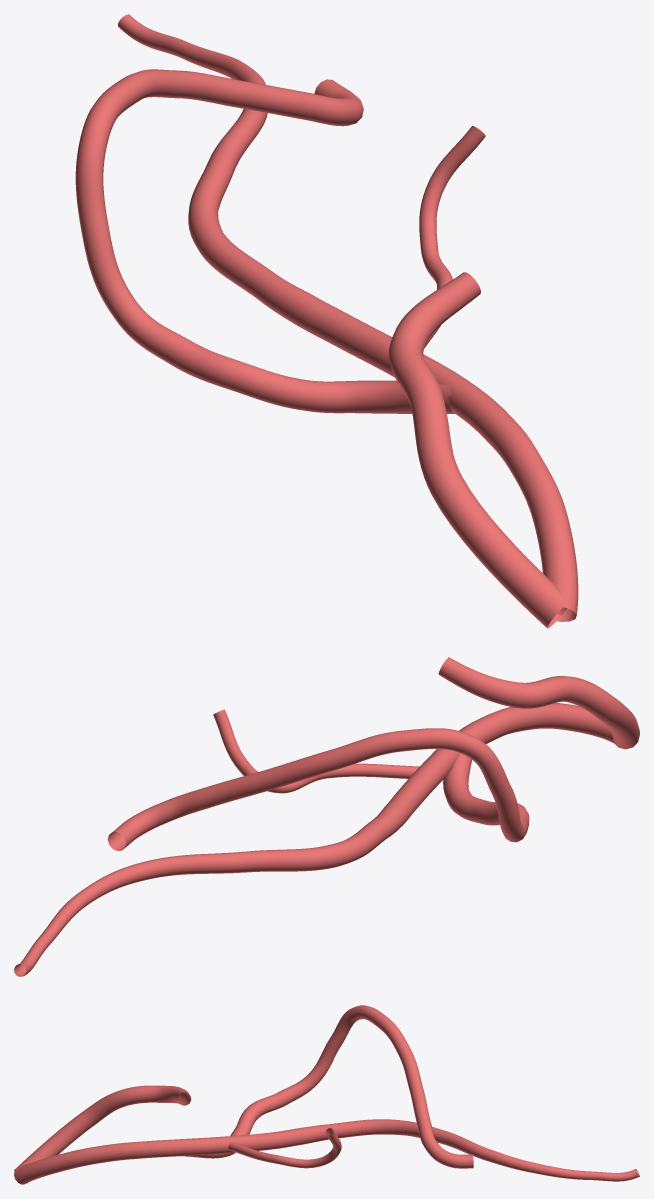
File: Middle_cerebral_artery_(M3_segment).l_BezierCurve.223.glb
3 views of the same model, one above another, from view 1: azimuth 30°, elevation 25°; view 2: azimuth 150°, elevation 25°; view 3: azimuth 270°, elevation 25° (orthographic). The views are drawn at different scales.
Visible parts, largest first — view 1: Middle_cerebral_artery_(M3_segment).l_BezierCurve.223; view 2: Middle_cerebral_artery_(M3_segment).l_BezierCurve.223; view 3: Middle_cerebral_artery_(M3_segment).l_BezierCurve.223.
Boxes of the visible parts, bbox=[...] form: Middle_cerebral_artery_(M3_segment).l_BezierCurve.223: bbox=[75, 14, 578, 628]; Middle_cerebral_artery_(M3_segment).l_BezierCurve.223: bbox=[14, 657, 639, 976]; Middle_cerebral_artery_(M3_segment).l_BezierCurve.223: bbox=[14, 1005, 639, 1184].
Bounding box in the file's own units: 0.0265 × 0.0193 × 0.0723.
